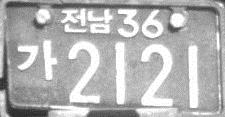1: (186, 43, 201, 110), (113, 40, 128, 106)
2: (139, 43, 175, 107), (67, 39, 102, 103)
3: (117, 6, 140, 38)
6: (141, 8, 164, 38)
가: (16, 39, 57, 81)
전남_O: (60, 7, 114, 35)
